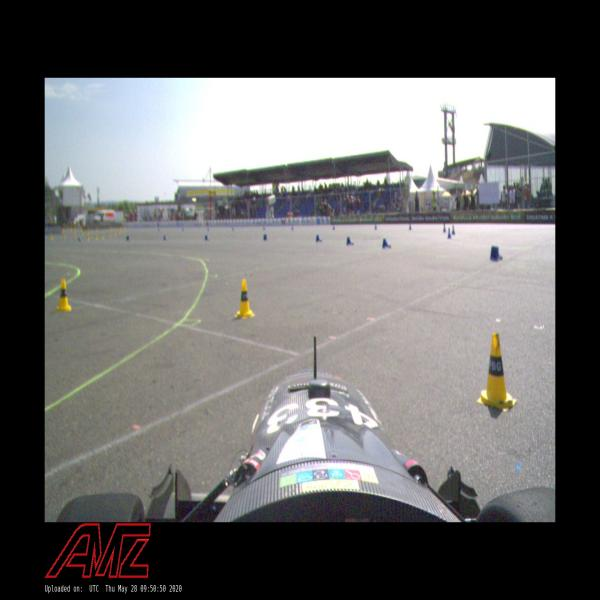blue_cone: (490, 246, 504, 262), (382, 238, 392, 249), (346, 236, 354, 247), (316, 234, 322, 244), (447, 227, 452, 239), (442, 221, 446, 233), (452, 225, 455, 236), (205, 234, 210, 240), (163, 236, 168, 240)
yellow_cone: (478, 332, 516, 413), (235, 277, 255, 320), (55, 278, 72, 314)
